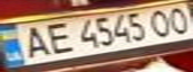4: (75, 16, 100, 50), (109, 11, 133, 46)
5: (127, 9, 151, 43), (93, 14, 115, 48)
A: (15, 24, 54, 60)
E: (39, 19, 75, 55)
O: (145, 7, 175, 38), (163, 5, 193, 35)
